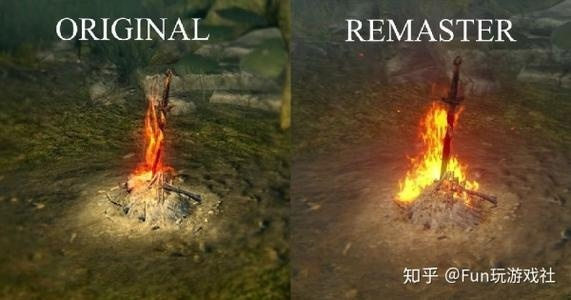fire: (394, 99, 481, 207), (129, 75, 172, 189)
